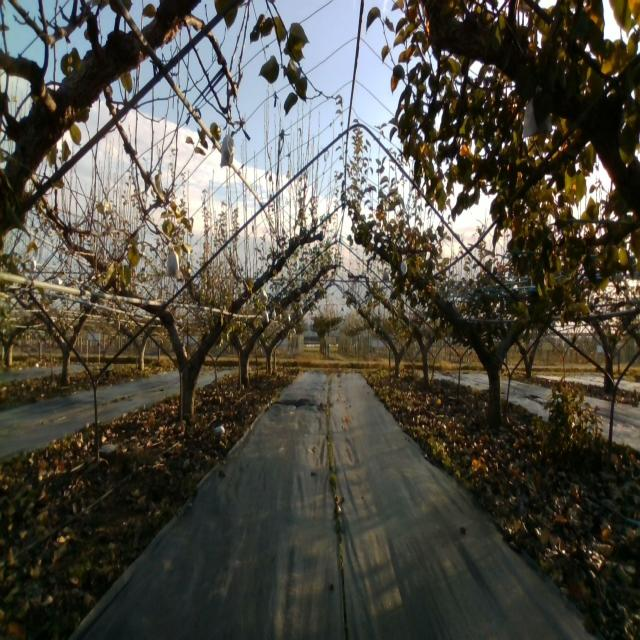pearbags: (164, 242, 181, 280), (220, 127, 235, 168)
